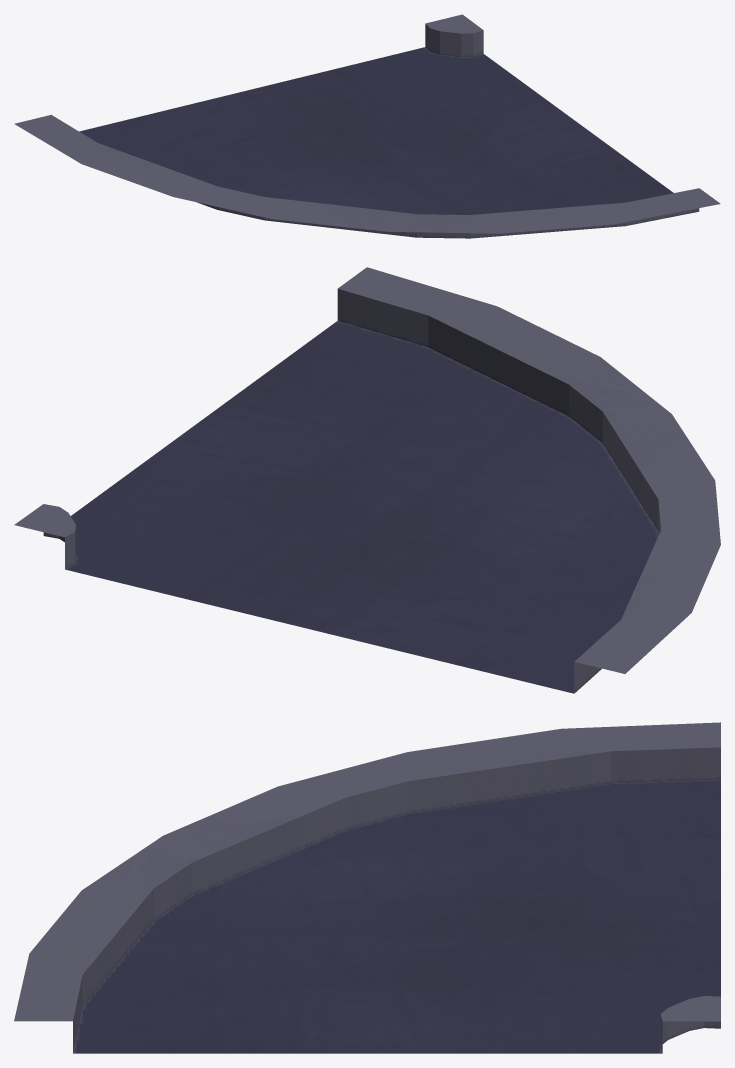
Rendered from jalan _tikungan_3.fbx.
3 views of the same model, one above another, from view 1: azimuth 30°, elevation 25°; view 2: azimuth 150°, elevation 25°; view 3: azimuth 270°, elevation 25° (orthographic). The views are drawn at different scales.
Visible parts, largest first — view 1: Track_Corner_90d_type_01_15x15m_free.001; view 2: Track_Corner_90d_type_01_15x15m_free.001; view 3: Track_Corner_90d_type_01_15x15m_free.001.
Part boxes in pixels (x1,y1,x2,y2): Track_Corner_90d_type_01_15x15m_free.001: (14, 14, 720, 238); Track_Corner_90d_type_01_15x15m_free.001: (14, 267, 720, 693); Track_Corner_90d_type_01_15x15m_free.001: (14, 722, 720, 1053).
Bounding box in the file's own units: 1500 × 75.38 × 1499.
